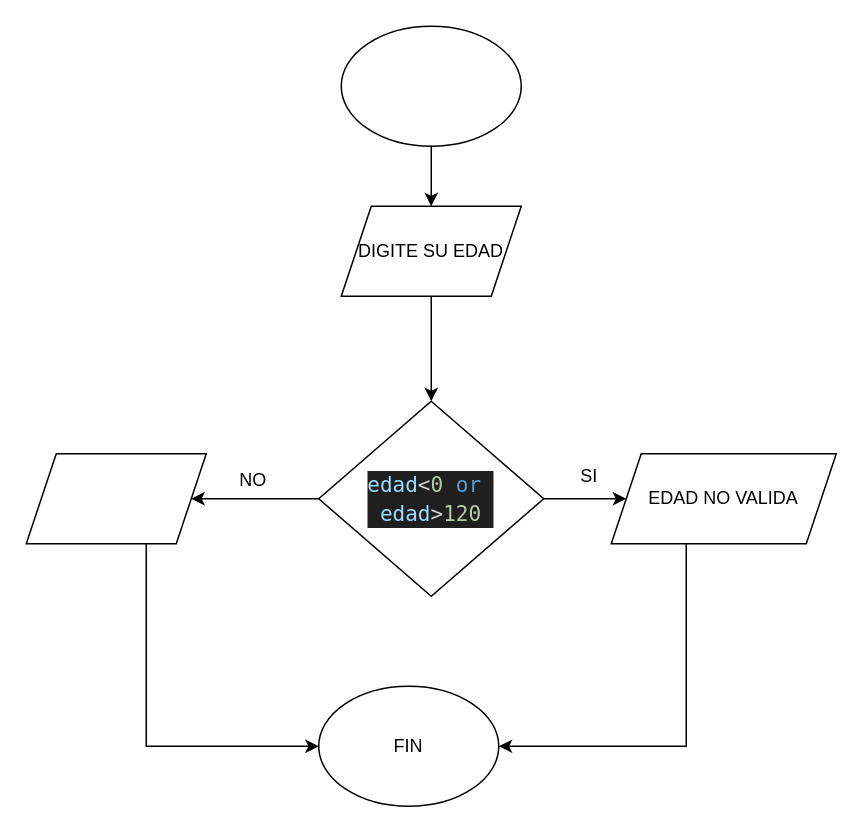
Some shapes in this 863 by 833 pixel diagram are drawn without their labels. Each missing label, with the centre of its shape:
EDAD VALIDA: point (115, 498)
INICIO: point (430, 85)
